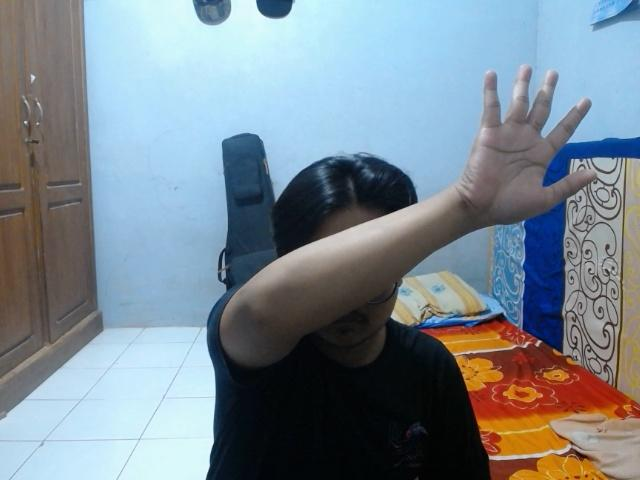Release: (456, 59, 602, 230)
